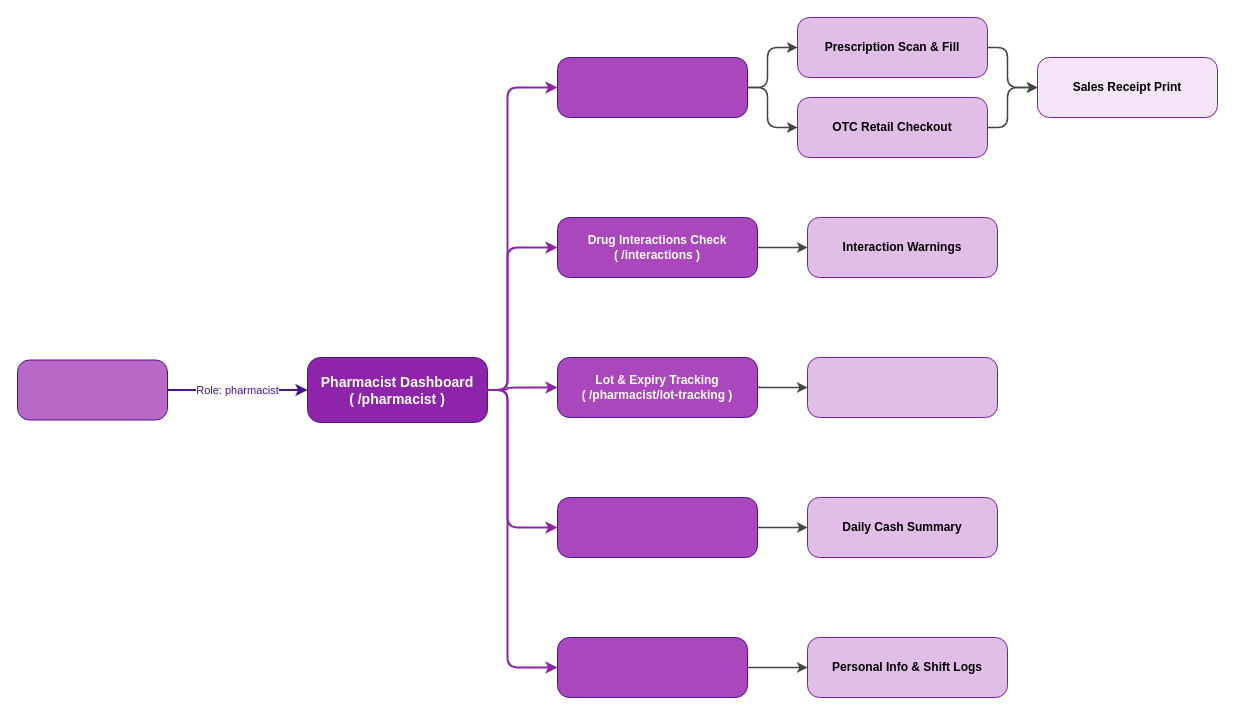
Image size: 1235x715. Some labels were removed from this diagram. Here are the shapes that lost their labels. From the top down, the centre of each, then its label:
At pixel 652 87: "POS Sales Terminal ( /pharmacist/sales )".
At pixel 92 389: "User Login ( /auth/login )".
At pixel 902 387: "Search Batch & Stock".
At pixel 657 527: "Shift Sales Reports ( /pharmacist/reports )".
At pixel 652 667: "Pharmacist Profile ( /pharmacist/profile )".
